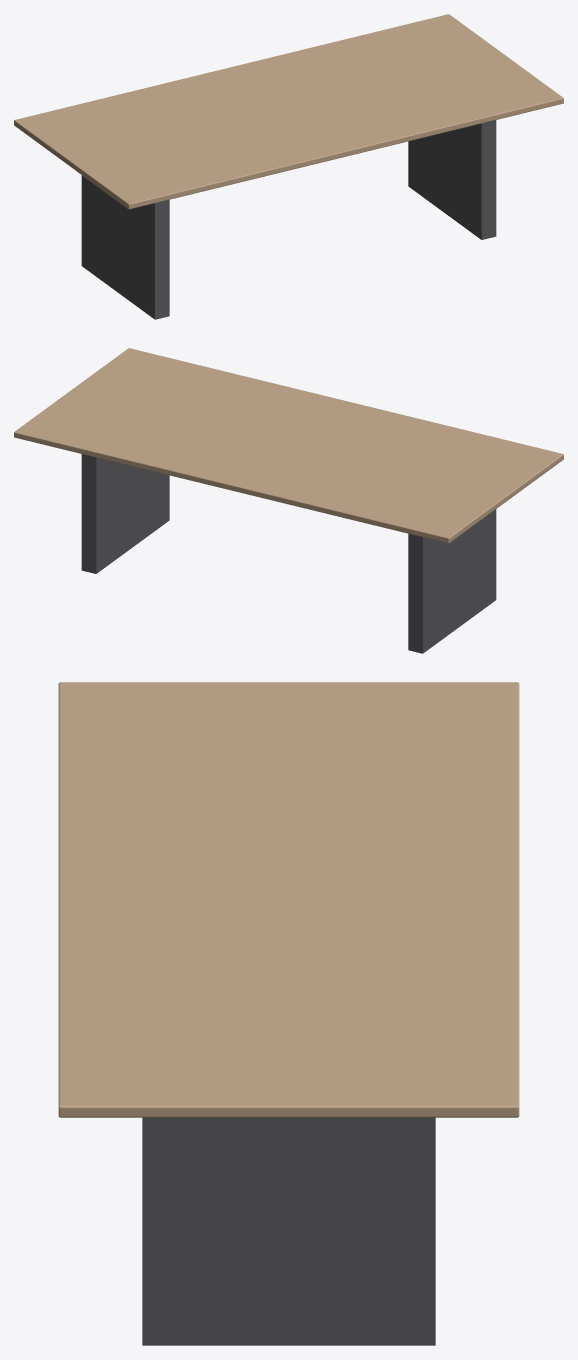
The model's file is meeting_table.glb.
The picture shows the model from 3 angles, top to bottom: view 1: azimuth 30°, elevation 25°; view 2: azimuth 150°, elevation 25°; view 3: azimuth 270°, elevation 25°; orthographic projection. The views are drawn at different scales.
Visible parts, largest first — view 1: Top, Legs; view 2: Top, Legs; view 3: Top, Legs.
Boxes of the visible parts, x1,y1,x2,y2 form: Top: (14,14,563,209); Legs: (81,120,496,319); Top: (14,348,563,543); Legs: (81,454,496,653); Top: (58,682,519,1117); Legs: (142,1117,435,1345).
Bounding box in the file's own units: 2.4 × 0.75 × 1.1.
